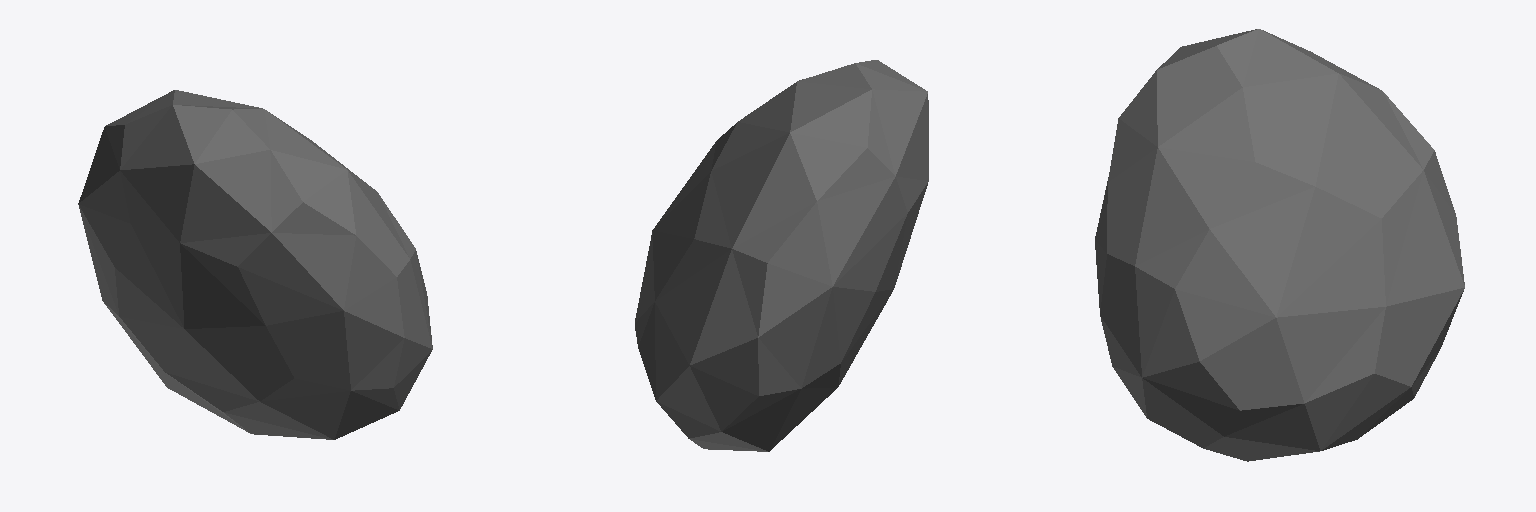
File: astrd_2.obj
3 renders of one model, left to right at view 1: azimuth 30°, elevation 25°; view 2: azimuth 150°, elevation 25°; view 3: azimuth 270°, elevation 25°, orthographic.
Parts seen in each view (by area): view 1: GeoSpher36; view 2: GeoSpher36; view 3: GeoSpher36.
Boxes of the visible parts, x1=… form: GeoSpher36: x1=78, y1=90, x2=432, y2=439; GeoSpher36: x1=635, y1=60, x2=928, y2=451; GeoSpher36: x1=1095, y1=29, x2=1464, y2=461.
Bounding box in the file's own units: 3.81 × 5.03 × 4.61.